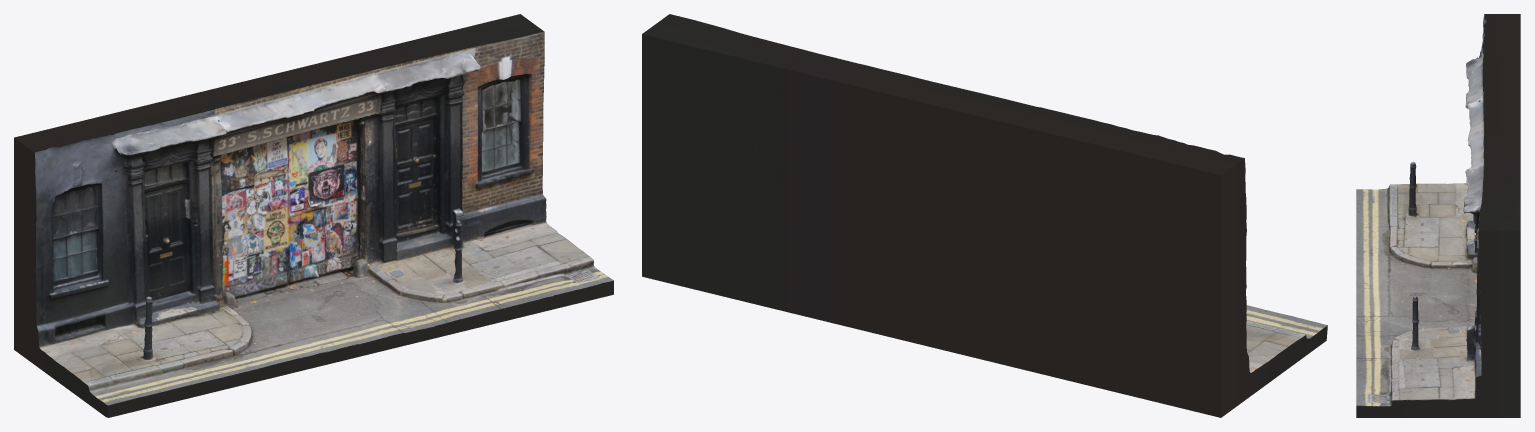
Rendered from scene.glb_1210751.glb.
The picture shows the model from 3 angles, left to right: view 1: azimuth 30°, elevation 25°; view 2: azimuth 150°, elevation 25°; view 3: azimuth 270°, elevation 25°; orthographic projection. The views are drawn at different scales.
Bounding box in the file's own units: 26.21 × 10.5 × 8.38.
Materials: 1 (1 with a texture image).
